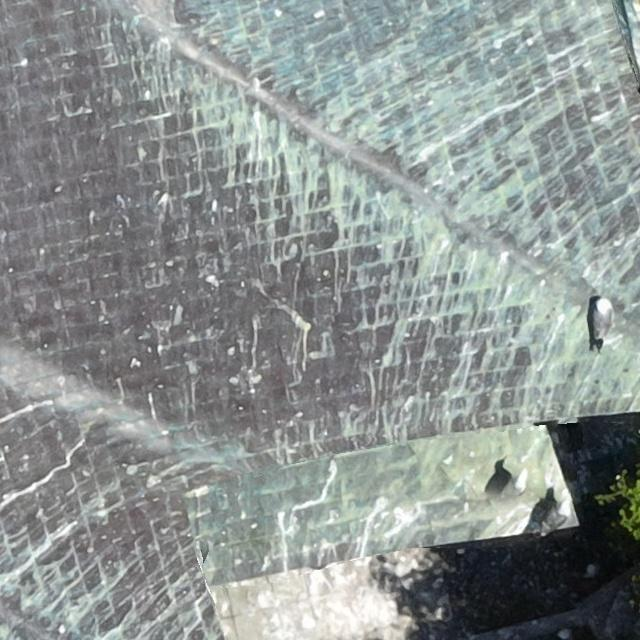umineko: (546, 499, 572, 533), (592, 301, 609, 334), (584, 563, 600, 578)
